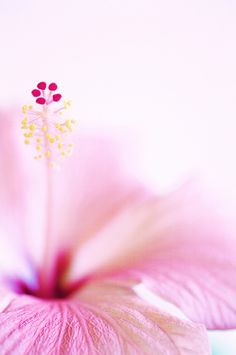Hibiscus: (1, 72, 236, 355)
